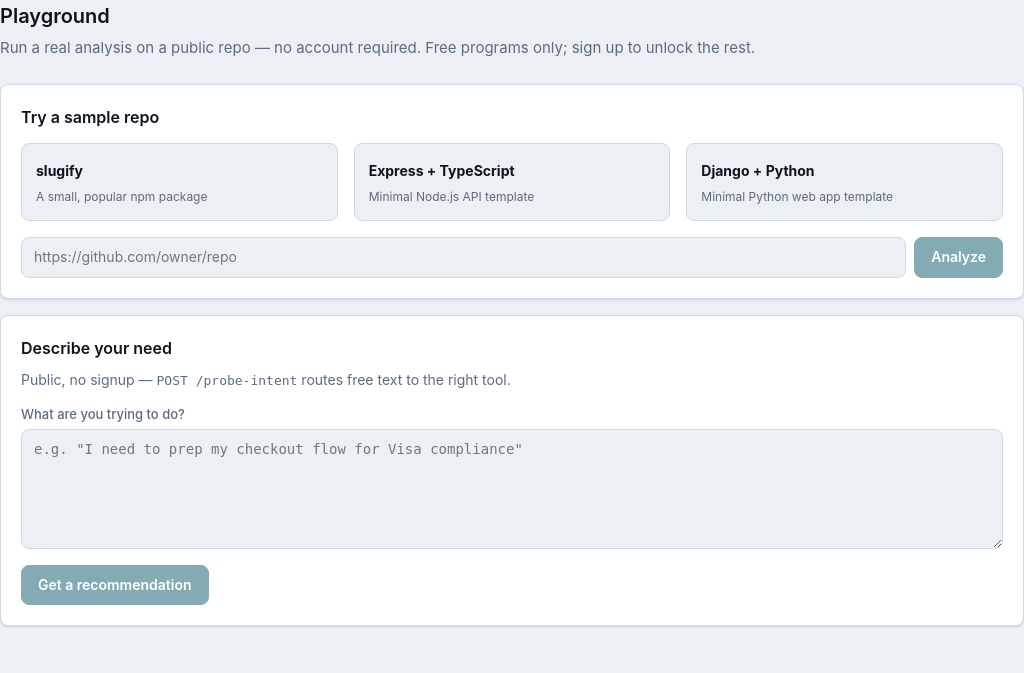
it: PlaygroundPage — running a real analysis › submitting a pasted URL runs the same flow
The width and height of the screenshot is (1024, 673).
In the field named "Public GitHub repo URL": (464, 258) [21,237,906,278], type "https://github.com/foo/bar"
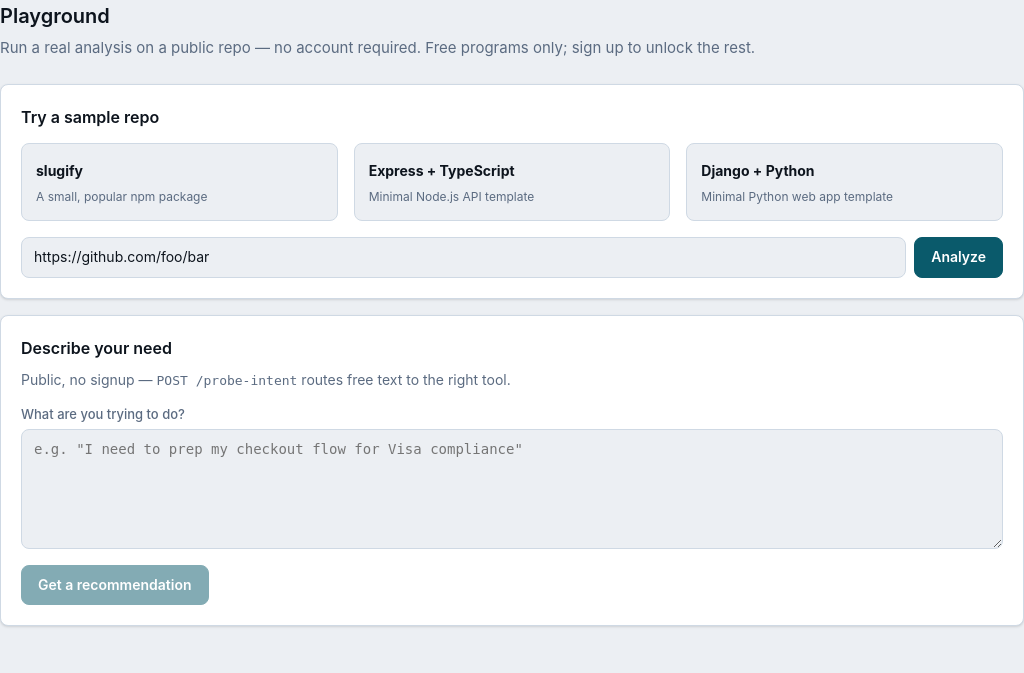
Click the button "Analyze": (959, 258) [914,237,1003,278]
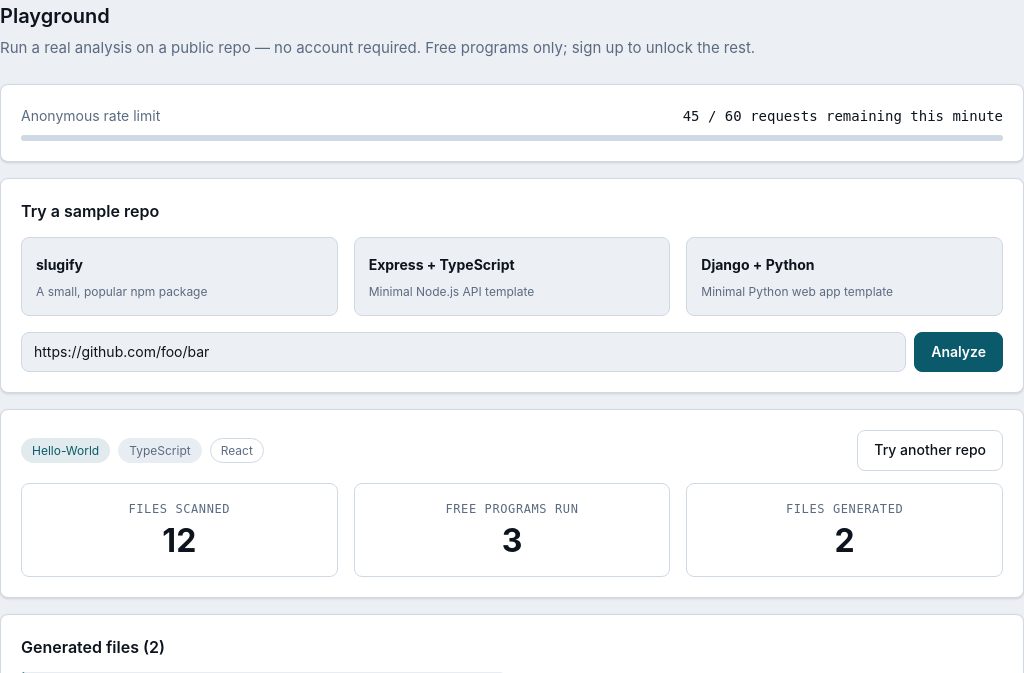
Now the text "Hello-World" is shown, box [21,438,110,463]
